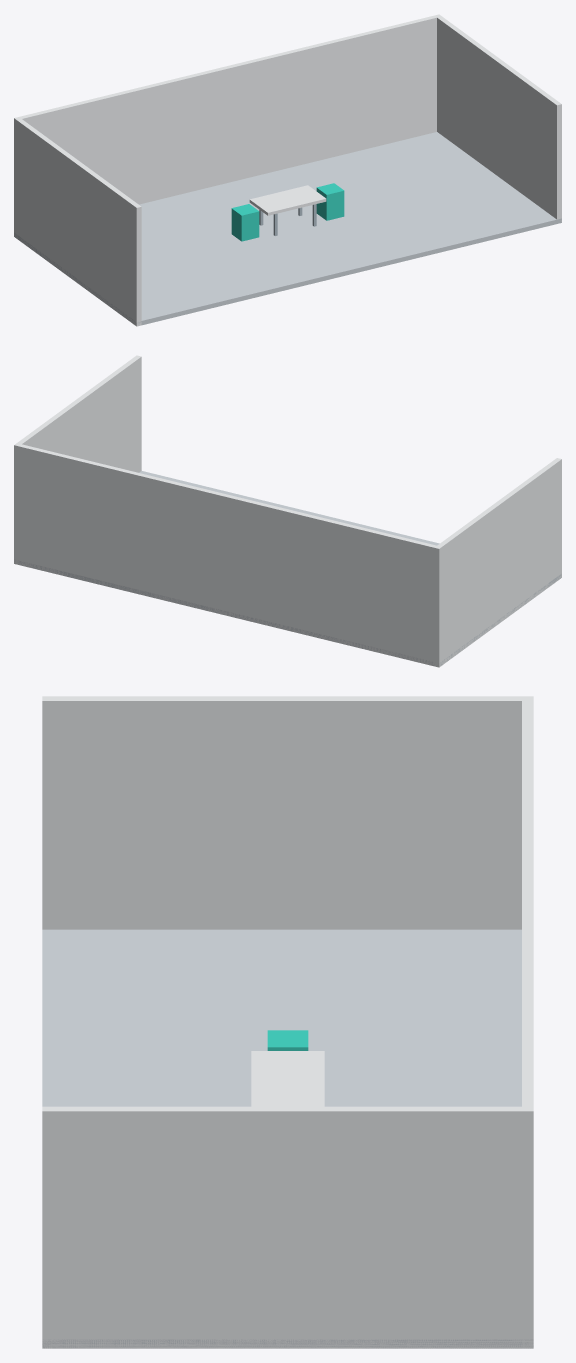
The picture shows the model from 3 angles, top to bottom: view 1: azimuth 30°, elevation 25°; view 2: azimuth 150°, elevation 25°; view 3: azimuth 270°, elevation 25°; orthographic projection. The views are drawn at different scales.
Visible parts, largest first — view 1: Exhibition Booth Concept; view 2: Exhibition Booth Concept; view 3: Exhibition Booth Concept.
Boxes of the visible parts, box(x1,y1,x2,y2) form: Exhibition Booth Concept: box(14, 14, 561, 326); Exhibition Booth Concept: box(14, 355, 561, 667); Exhibition Booth Concept: box(42, 696, 533, 1348).
Size of the model in its own units: 12 by 3.2 by 6.
